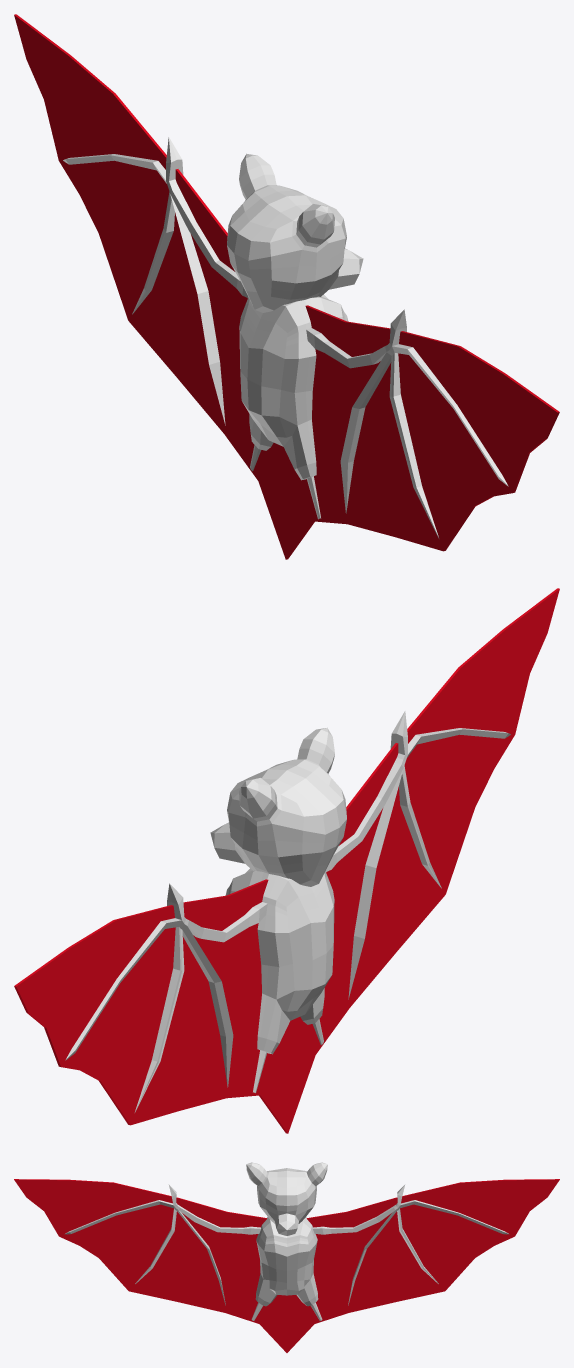
The model's file is bat.fbx.
The picture shows the model from 3 angles, top to bottom: view 1: azimuth 30°, elevation 25°; view 2: azimuth 150°, elevation 25°; view 3: azimuth 270°, elevation 25°; orthographic projection. The views are drawn at different scales.
Parts seen in each view (by area): view 1: Cube, Cube.001, Cube.002; view 2: Cube, Cube.001, Cube.002; view 3: Cube, Cube.001, Cube.002.
Boxes of the visible parts, x1,y1,x2,y2 form: Cube: [14, 14, 559, 559]; Cube.001: [63, 137, 508, 538]; Cube.002: [227, 153, 363, 312]; Cube: [14, 588, 559, 1133]; Cube.001: [65, 711, 510, 1112]; Cube.002: [210, 727, 346, 886]; Cube: [14, 1179, 559, 1352]; Cube.001: [64, 1184, 509, 1320]; Cube.002: [246, 1162, 327, 1235].
Bounding box in the file's own units: 61.54 × 172 × 448.
